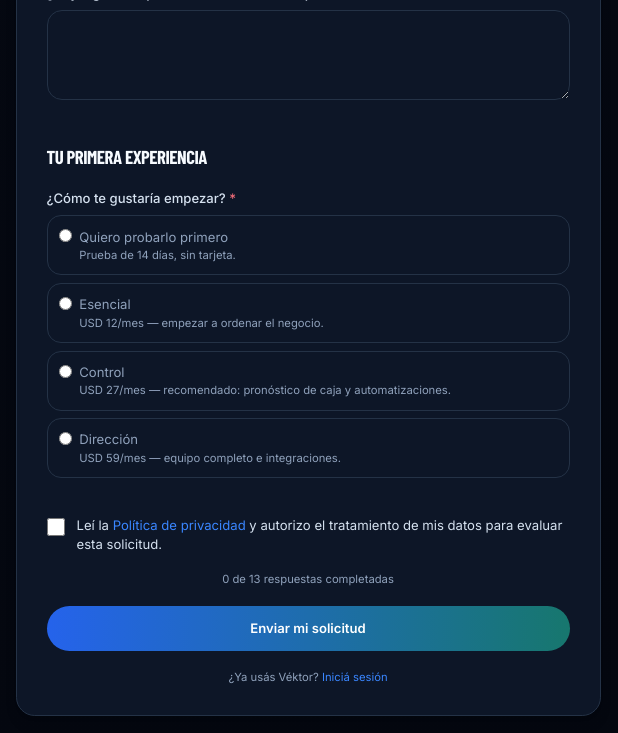
it: AccessRequestForm › un formulario incompleto se puede intentar enviar › con todo vacío, el botón real abre el resumen y se lleva el foco
The width and height of the screenshot is (618, 733).
(page scrolled)
Click the button "Enviar mi solicitud": [308, 628] box [46,606,570,651]
(page scrolled)
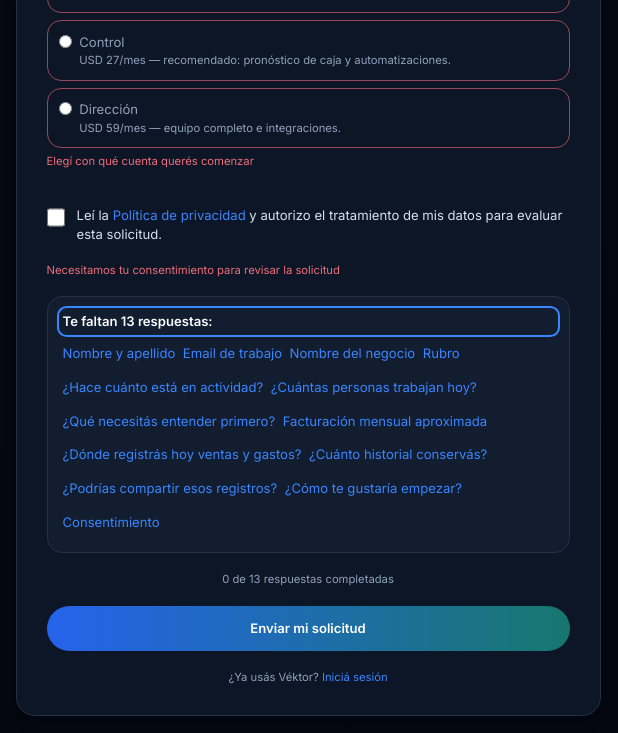
Result: the message shows "Te faltan 13 respuestas:" at [62,313,213,329]
